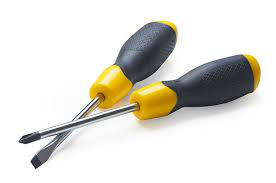Screwdriver: (16, 20, 262, 175)
